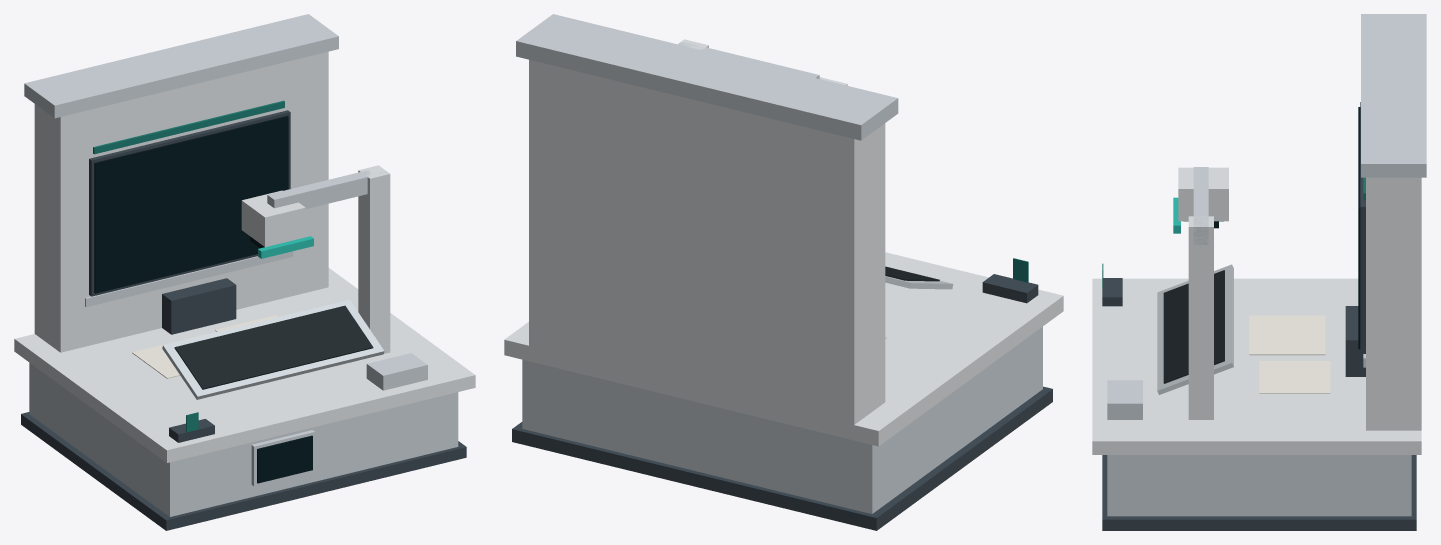
File: manual_terminal.obj
3 renders of one model, left to right at view 1: azimuth 30°, elevation 25°; view 2: azimuth 150°, elevation 25°; view 3: azimuth 270°, elevation 25°, orthographic. The views are drawn at different scales.
Parts seen in each view (by area): view 1: manual_terminal_e03, manual_terminal_e02, manual_terminal_e07, manual_terminal_e01, manual_terminal_e04, manual_terminal_e13, manual_terminal_e00, manual_terminal_e14, manual_terminal_e12, manual_terminal_e24, manual_terminal_e06, manual_terminal_e16 (+9 smaller); view 2: manual_terminal_e03, manual_terminal_e01, manual_terminal_e02, manual_terminal_e04, manual_terminal_e00, manual_terminal_e05; view 3: manual_terminal_e02, manual_terminal_e01, manual_terminal_e03, manual_terminal_e04, manual_terminal_e00, manual_terminal_e14, manual_terminal_e13, manual_terminal_e22, manual_terminal_e23, manual_terminal_e12, manual_terminal_e16, manual_terminal_e20 (+5 smaller).
Boxes of the visible parts, <box> form: manual_terminal_e03: <box>34,51,328,352</box>; manual_terminal_e02: <box>14,268,475,462</box>; manual_terminal_e07: <box>94,116,288,293</box>; manual_terminal_e01: <box>29,363,458,516</box>; manual_terminal_e04: <box>24,14,338,118</box>; manual_terminal_e13: <box>174,305,373,389</box>; manual_terminal_e00: <box>21,412,466,530</box>; manual_terminal_e14: <box>358,165,390,353</box>; manual_terminal_e12: <box>162,300,384,399</box>; manual_terminal_e24: <box>162,278,236,334</box>; manual_terminal_e06: <box>89,110,290,296</box>; manual_terminal_e16: <box>241,190,305,247</box>; manual_terminal_e03: <box>529,59,885,424</box>; manual_terminal_e01: <box>522,326,1042,513</box>; manual_terminal_e02: <box>504,252,1063,446</box>; manual_terminal_e04: <box>516,14,898,140</box>; manual_terminal_e00: <box>512,386,1052,530</box>; manual_terminal_e05: <box>982,274,1038,303</box>; manual_terminal_e02: <box>1092,278,1421,454</box>; manual_terminal_e01: <box>1107,455,1411,516</box>; manual_terminal_e03: <box>1366,177,1421,430</box>; manual_terminal_e04: <box>1361,14,1426,177</box>; manual_terminal_e00: <box>1102,455,1416,530</box>; manual_terminal_e14: <box>1188,216,1213,419</box>; manual_terminal_e13: <box>1163,270,1224,383</box>; manual_terminal_e22: <box>1249,315,1325,355</box>; manual_terminal_e23: <box>1259,361,1330,393</box>; manual_terminal_e12: <box>1157,264,1233,394</box>; manual_terminal_e16: <box>1178,167,1228,221</box>; manual_terminal_e20: <box>1107,380,1142,419</box>.
Size of the model in its own units: 0.95 by 0.9875 by 0.825.
